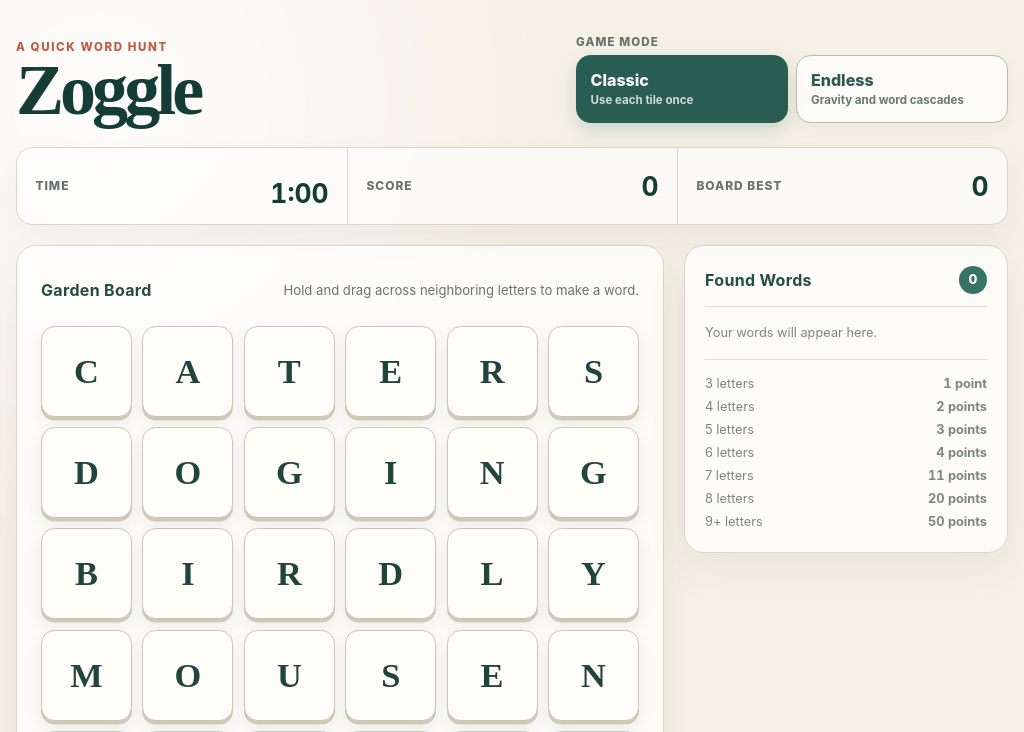
App › restarts an active round while retaining its high score
Expected: the text "Hold and drag across neighboring letters to make a word." is shown, [284,282,639,298]
Step 1. Press the mouse on the button named "C, row 1, column 1" → (86, 371), box [41,326,132,416]
(page scrolled)
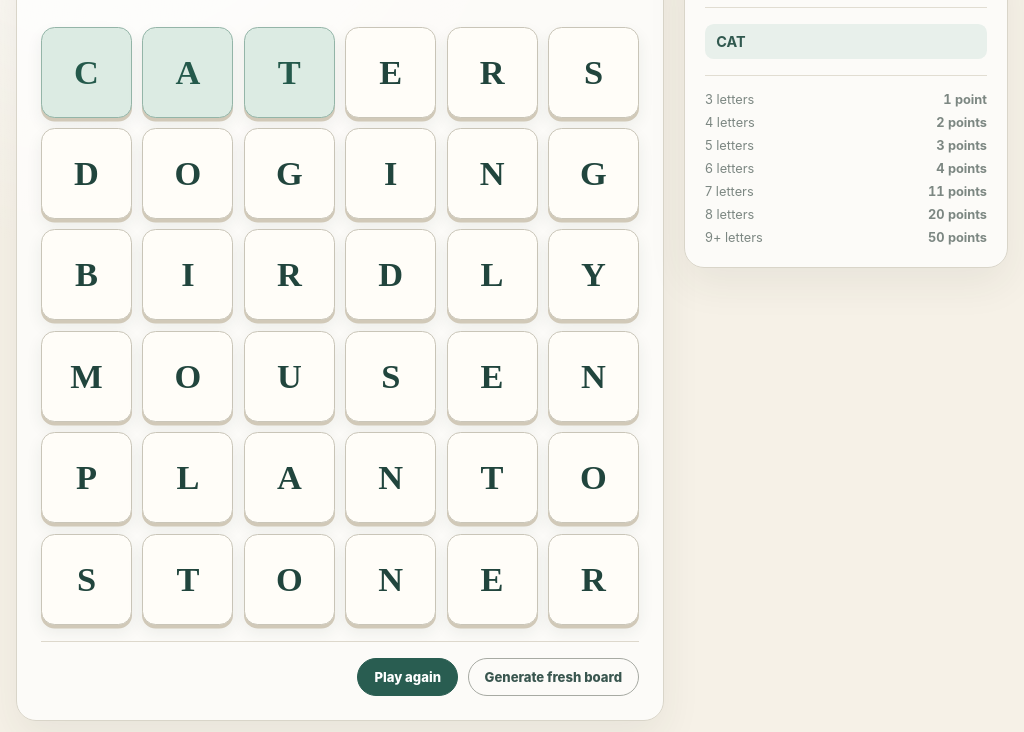
Step 2. Click the button "Play again" → (408, 677), box [357,658,458,696]
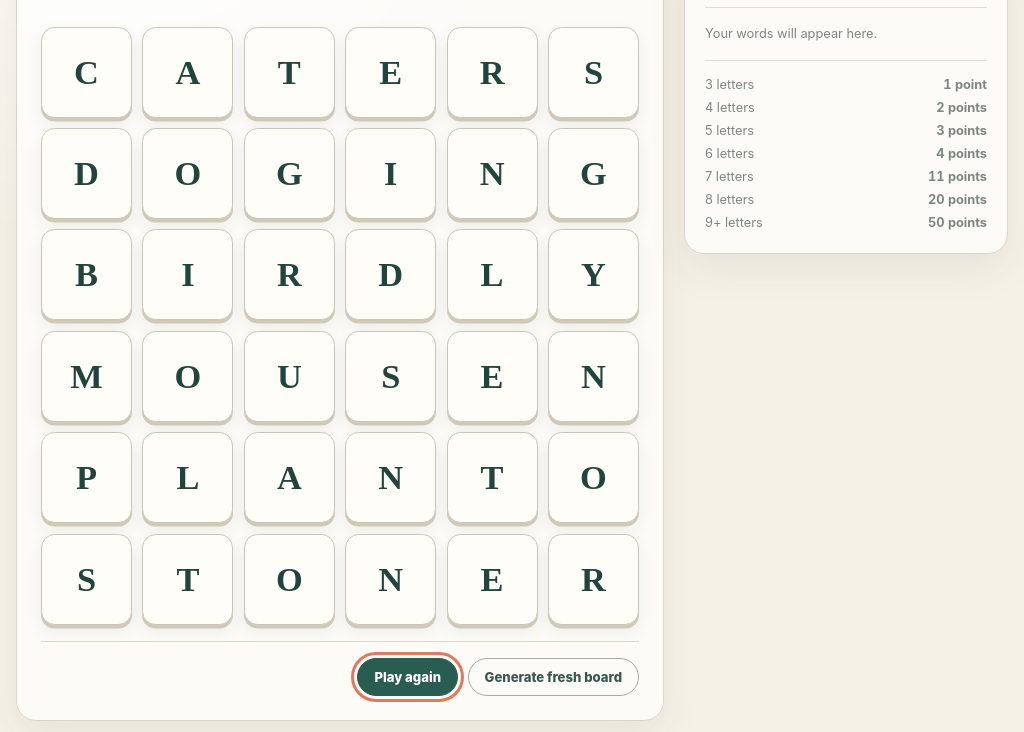
Result: the list item "Your words will appear here." is shown at [705,26,877,41]
Result: the button named "C, row 1, column 1" is enabled at [41,26,132,118]
Result: the button named "A, row 1, column 2" is enabled at [142,26,233,118]
